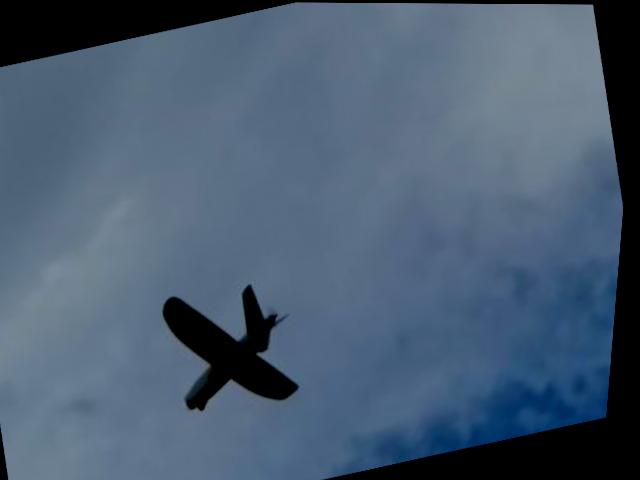uav: (149, 259, 329, 438)
